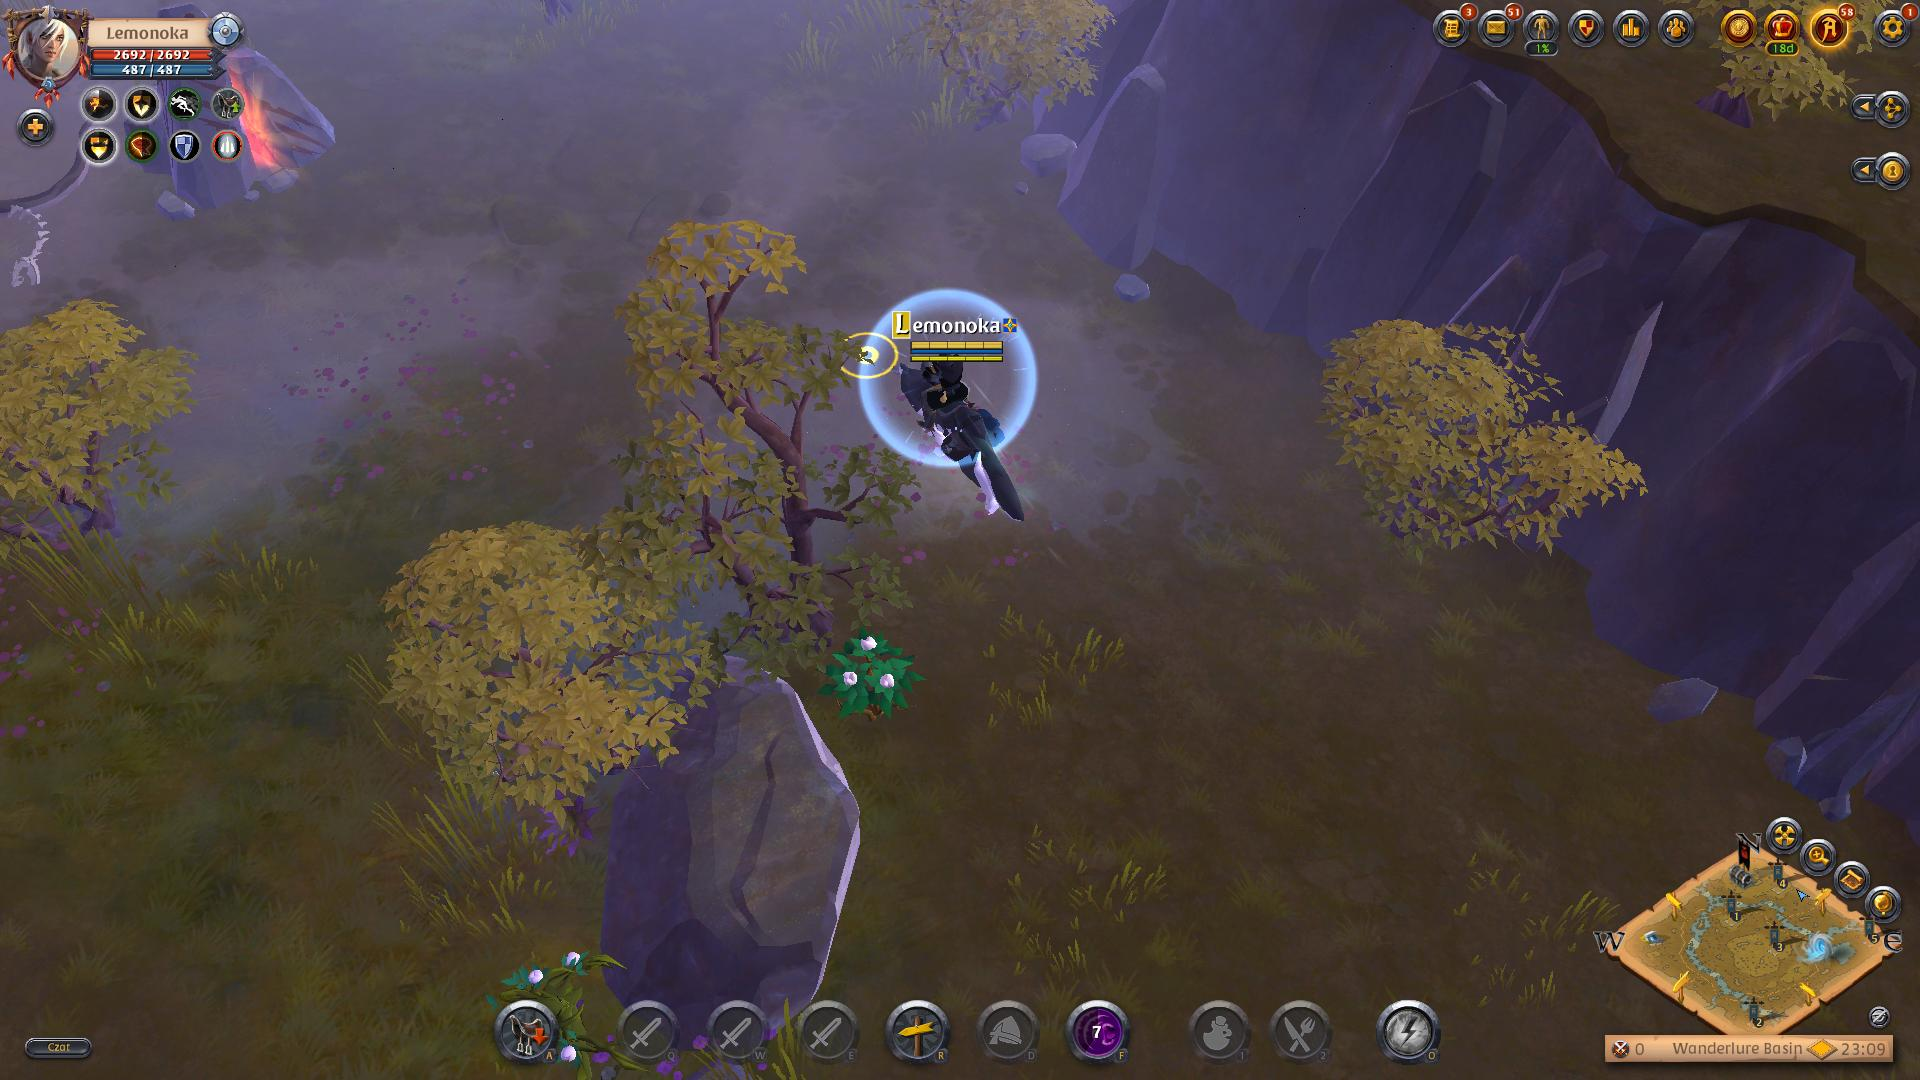fiber tier 3: (819, 621, 923, 732)
